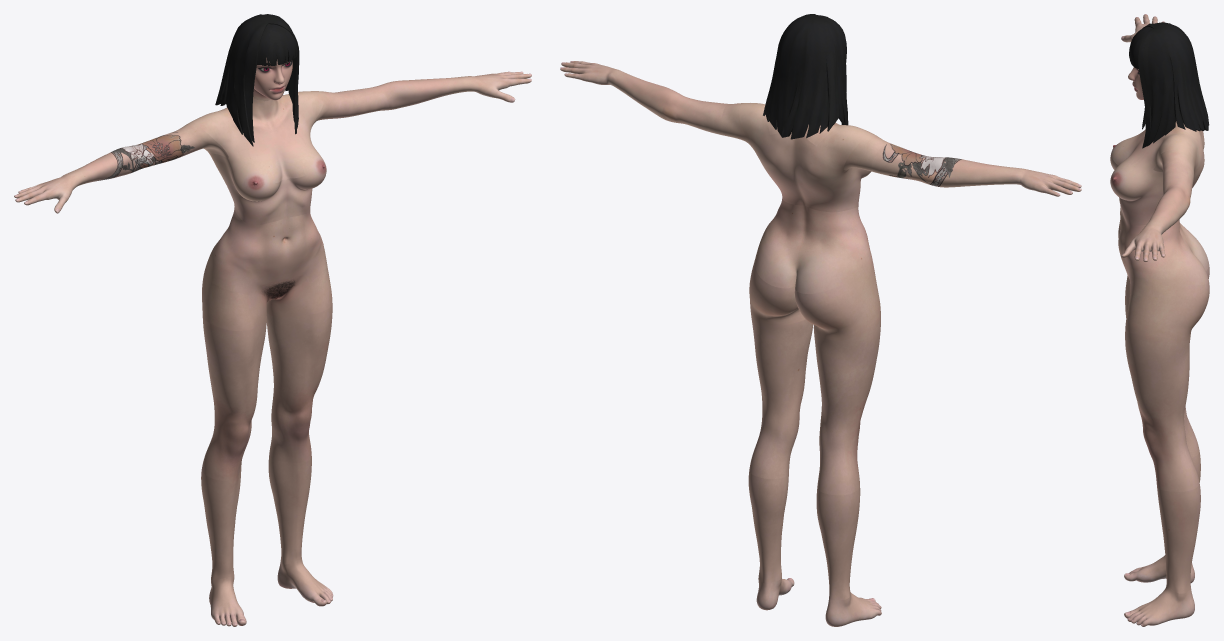
The picture shows the model from 3 angles, left to right: view 1: azimuth 30°, elevation 25°; view 2: azimuth 150°, elevation 25°; view 3: azimuth 270°, elevation 25°; orthographic projection. The views are drawn at different scales.
Parts seen in each view (by area): view 1: Object_3, Object_12, Object_11, Object_8, Object_6, Object_5, Object_4, Object_9, Object_7, Object_16; view 2: Object_3, Object_11, Object_12, Object_5, Object_8, Object_6, Object_4, Object_9, Object_7; view 3: Object_3, Object_5, Object_12, Object_8, Object_4, Object_6, Object_11, Object_9, Object_7, Object_16.
Part boxes in pixels (left/top/right/bottom): Object_3: left=201, top=303, right=332, bottom=480; Object_12: left=207, top=94, right=326, bottom=296; Object_11: left=14, top=72, right=531, bottom=213; Object_8: left=192, top=91, right=326, bottom=225; Object_6: left=201, top=455, right=311, bottom=580; Object_5: left=215, top=14, right=299, bottom=146; Object_4: left=202, top=262, right=332, bottom=330; Object_9: left=209, top=559, right=333, bottom=626; Object_7: left=177, top=91, right=339, bottom=157; Object_16: left=253, top=58, right=292, bottom=101; Object_3: left=749, top=308, right=880, bottom=495; Object_11: left=560, top=61, right=1081, bottom=196; Object_12: left=755, top=121, right=875, bottom=293; Object_5: left=763, top=14, right=848, bottom=139; Object_8: left=739, top=103, right=871, bottom=212; Object_6: left=748, top=471, right=860, bottom=600; Object_4: left=749, top=259, right=880, bottom=340; Object_9: left=756, top=577, right=881, bottom=626; Object_7: left=721, top=103, right=886, bottom=171; Object_3: left=1125, top=293, right=1199, bottom=491; Object_5: left=1129, top=22, right=1209, bottom=148; Object_12: left=1113, top=121, right=1208, bottom=298; Object_8: left=1110, top=130, right=1204, bottom=225; Object_4: left=1125, top=264, right=1209, bottom=340; Object_6: left=1157, top=452, right=1200, bottom=593; Object_11: left=1121, top=15, right=1193, bottom=261; Object_9: left=1124, top=555, right=1194, bottom=626; Object_7: left=1153, top=150, right=1194, bottom=173; Object_16: left=1128, top=67, right=1143, bottom=99.
Bounding box in the file's own units: 1.66 × 1.8 × 0.2823.
Materials: 18 (17 with a texture image).
